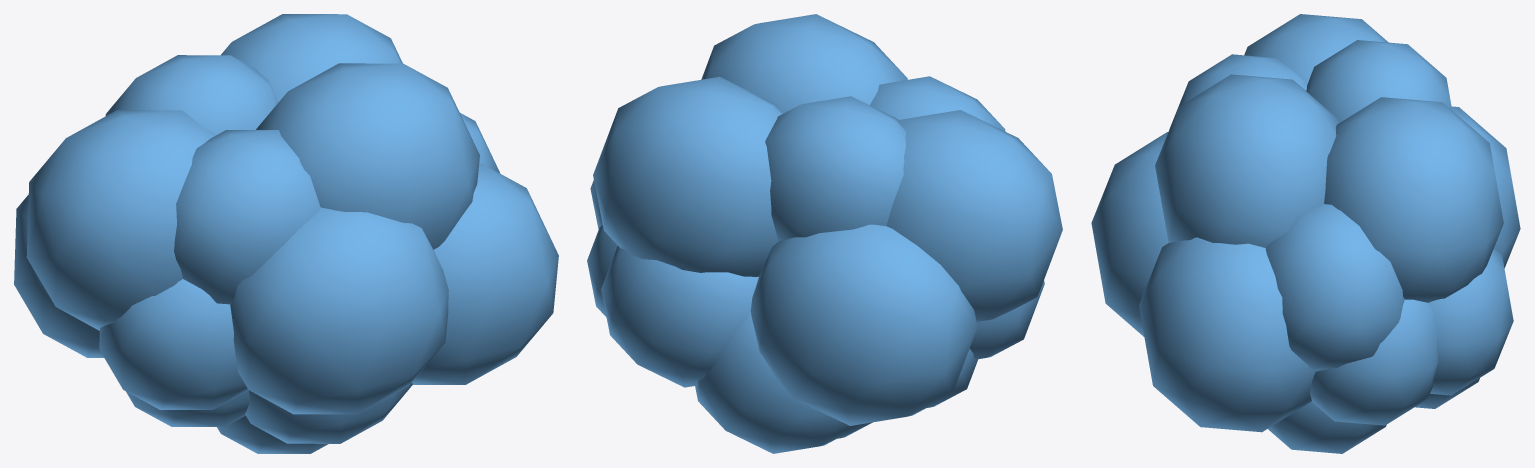
Rendered from _loud.fbx.
The picture shows the model from 3 angles, left to right: view 1: azimuth 30°, elevation 25°; view 2: azimuth 150°, elevation 25°; view 3: azimuth 270°, elevation 25°; orthographic projection. The views are drawn at different scales.
Parts seen in each view (by area): view 1: Икосфера; view 2: Икосфера; view 3: Икосфера.
Boxes of the visible parts, x1,y1,x2,y2 form: Икосфера: (14,14,558,453); Икосфера: (587,14,1062,453); Икосфера: (1091,14,1520,453).
Size of the model in its own units: 487 by 398 by 409.
